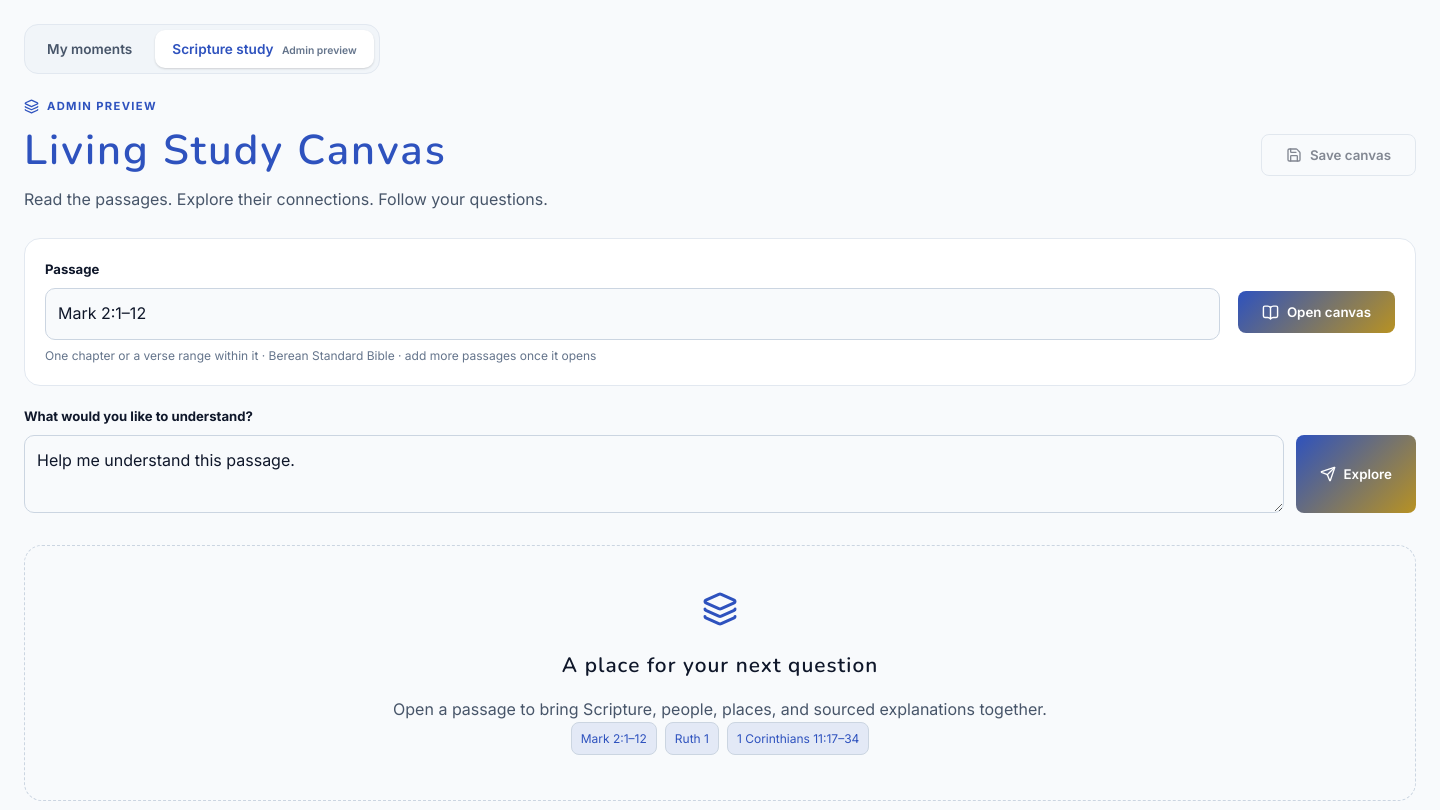
Scenario: Living Study Canvas › aborts an earlier explanation and ignores it when a newer focus wins
Click the button "Open canvas".
click(1316, 312)  # box x1=1238 y1=291 x2=1395 y2=333
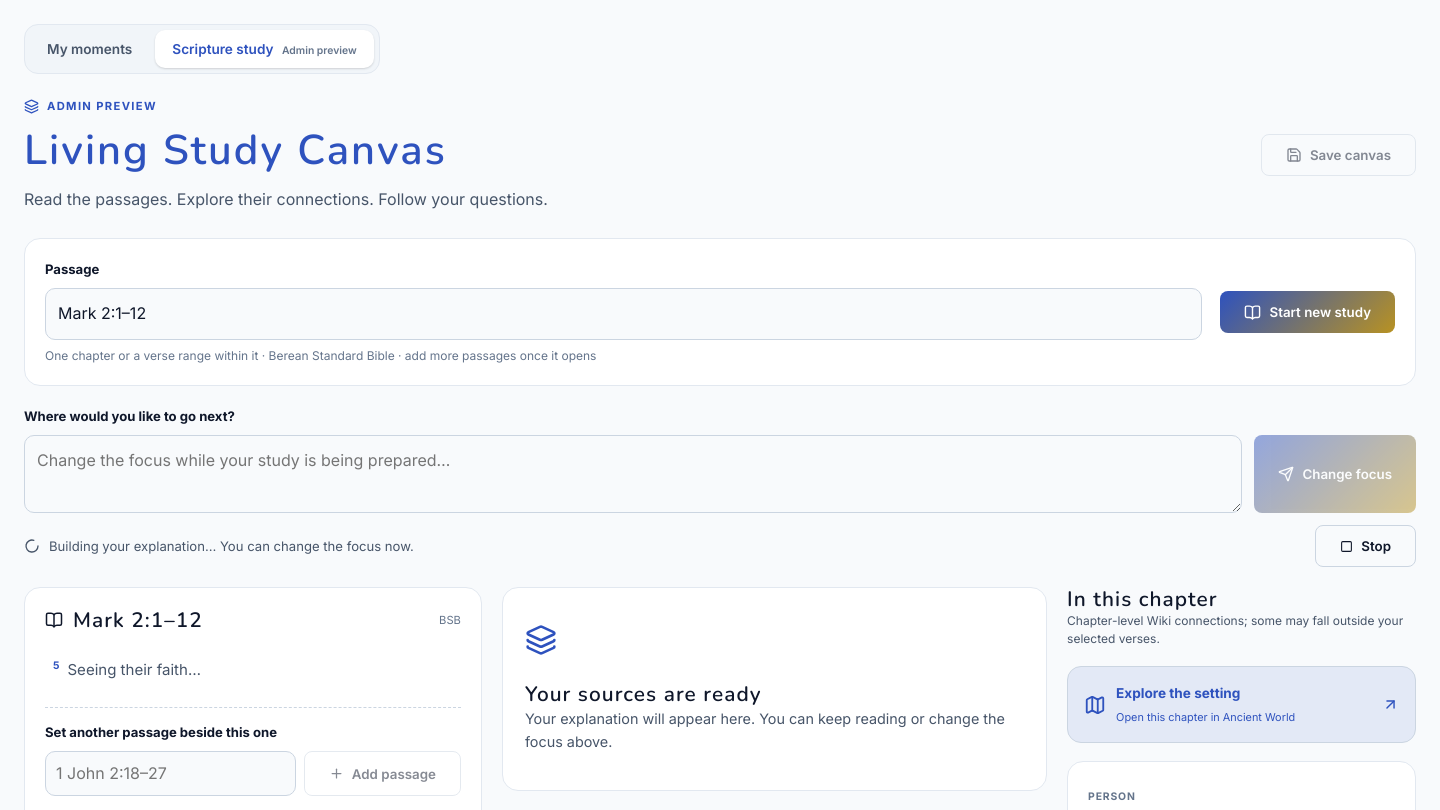
Type "Focus on forgiveness" into the text box labelled "Where would you like to go next?".
click(633, 474); type("Focus on forgiveness")  # box x1=24 y1=435 x2=1242 y2=513
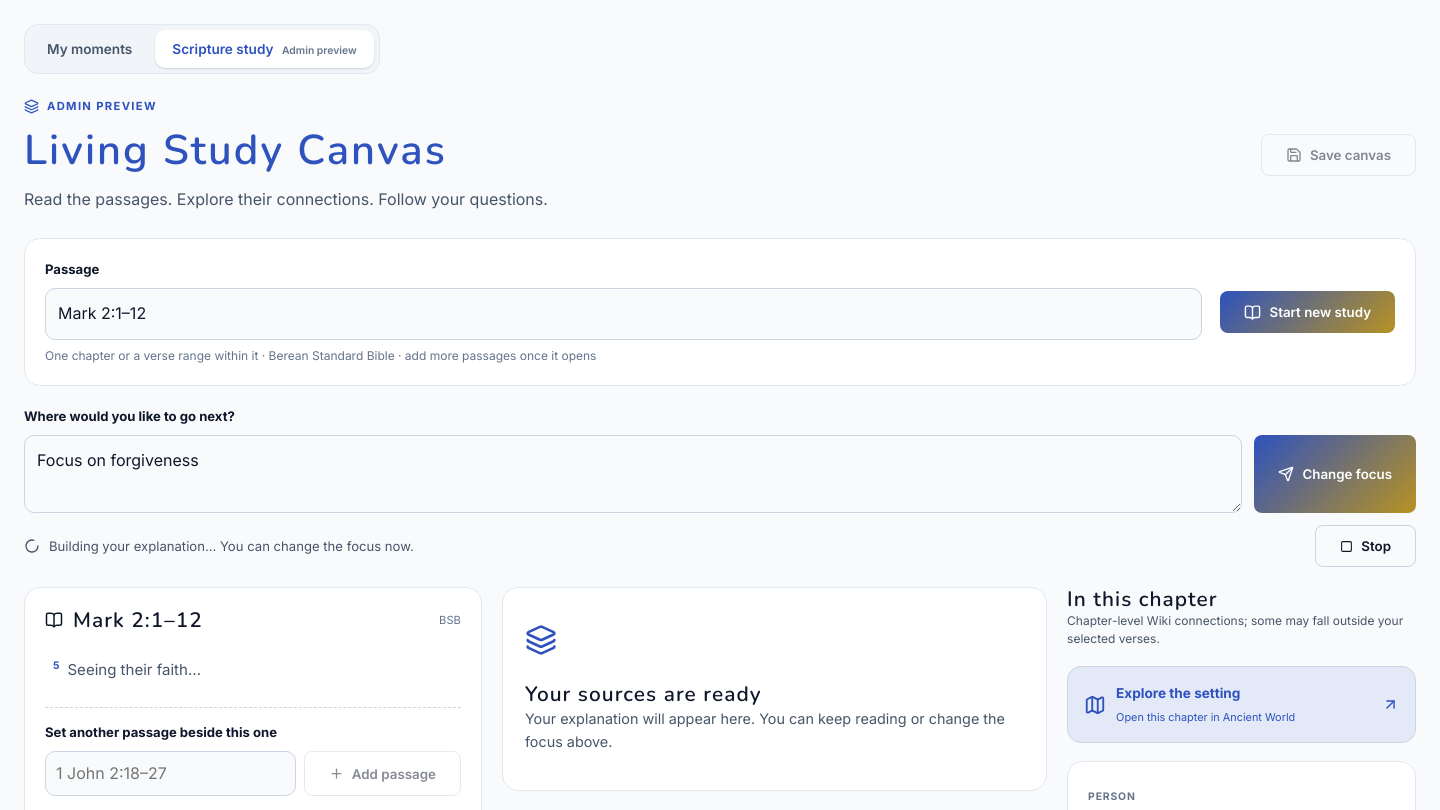
Click the button "Change focus".
click(1335, 474)  # box x1=1254 y1=435 x2=1416 y2=513
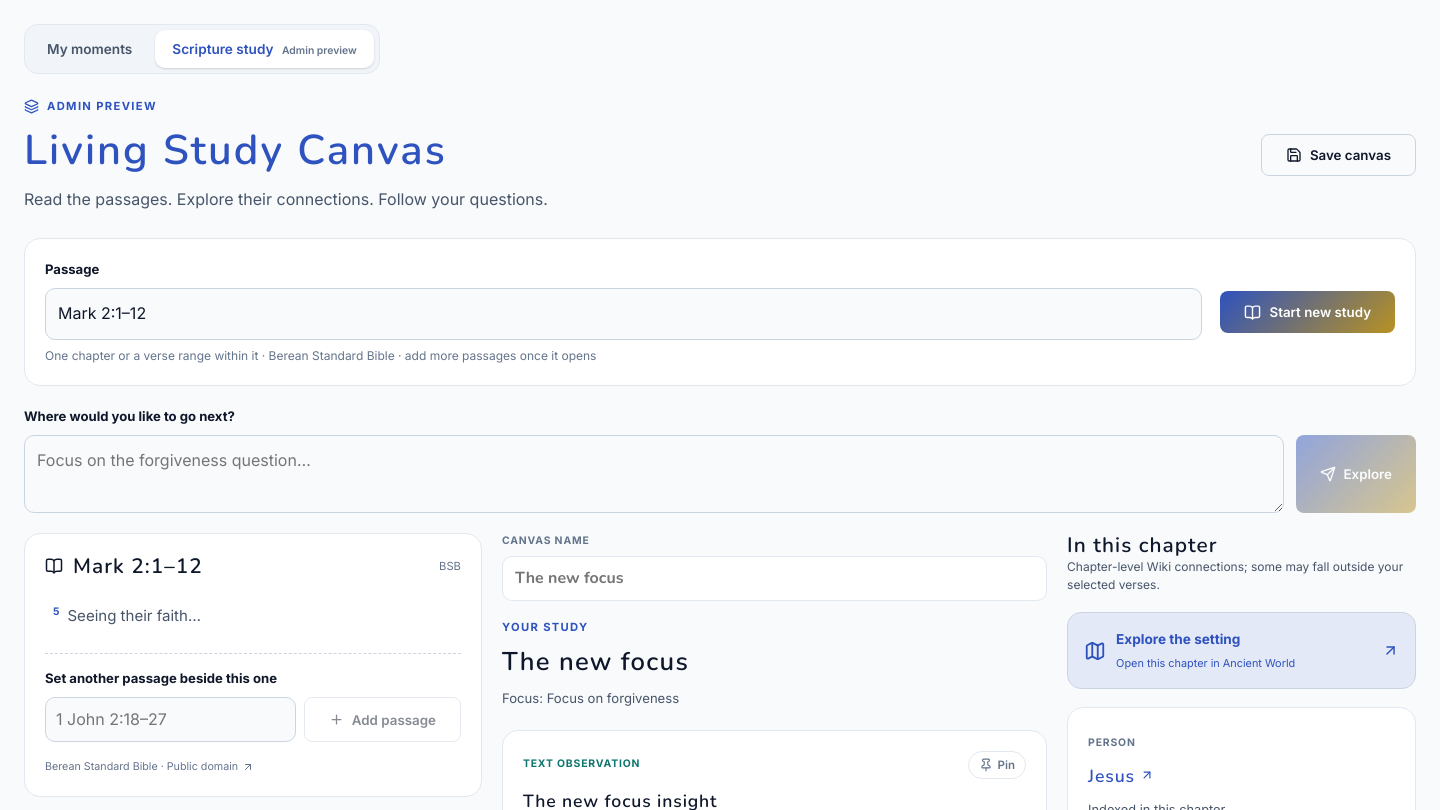
Check: the heading "The new focus" is shown, box x1=502 y1=644 x2=689 y2=679
